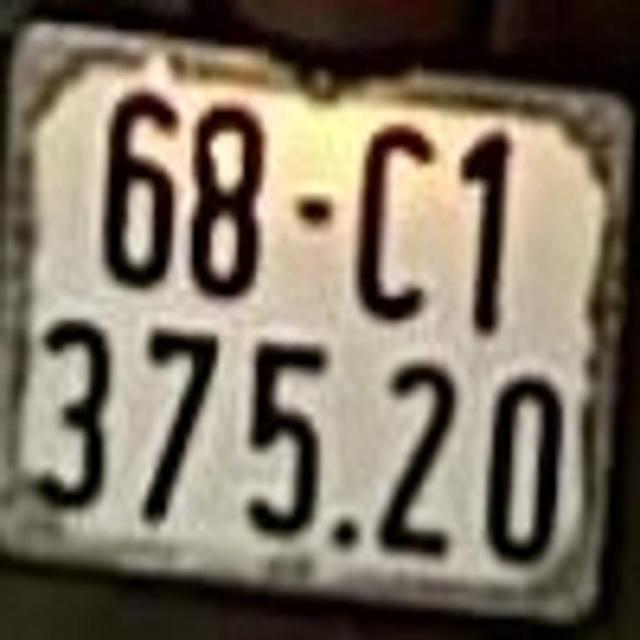0: (481, 368, 564, 567)
1: (451, 120, 517, 337)
2: (376, 350, 455, 560)
3: (36, 312, 111, 515)
5: (244, 333, 328, 538)
6: (101, 85, 179, 290)
7: (139, 322, 221, 528)
8: (187, 97, 265, 300)
C: (354, 114, 438, 323)
